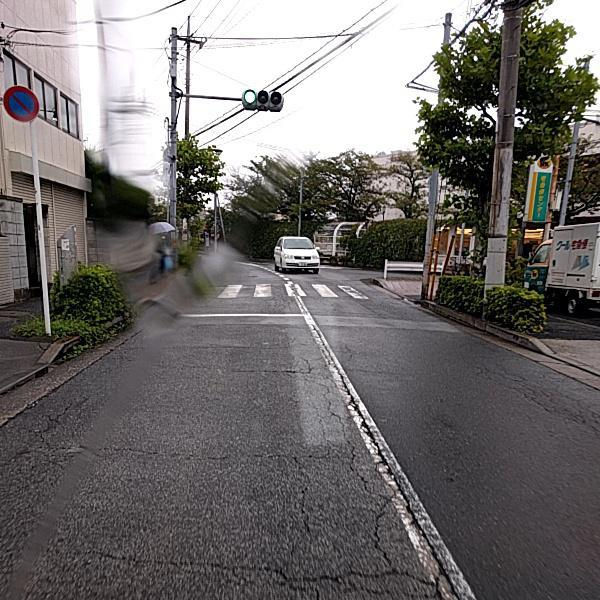D10: (55, 539, 291, 583), (55, 439, 281, 467), (172, 362, 301, 382)
D20: (291, 375, 452, 598), (474, 347, 599, 436), (6, 391, 96, 464)
D43: (213, 269, 375, 308)
D44: (299, 308, 465, 593)
